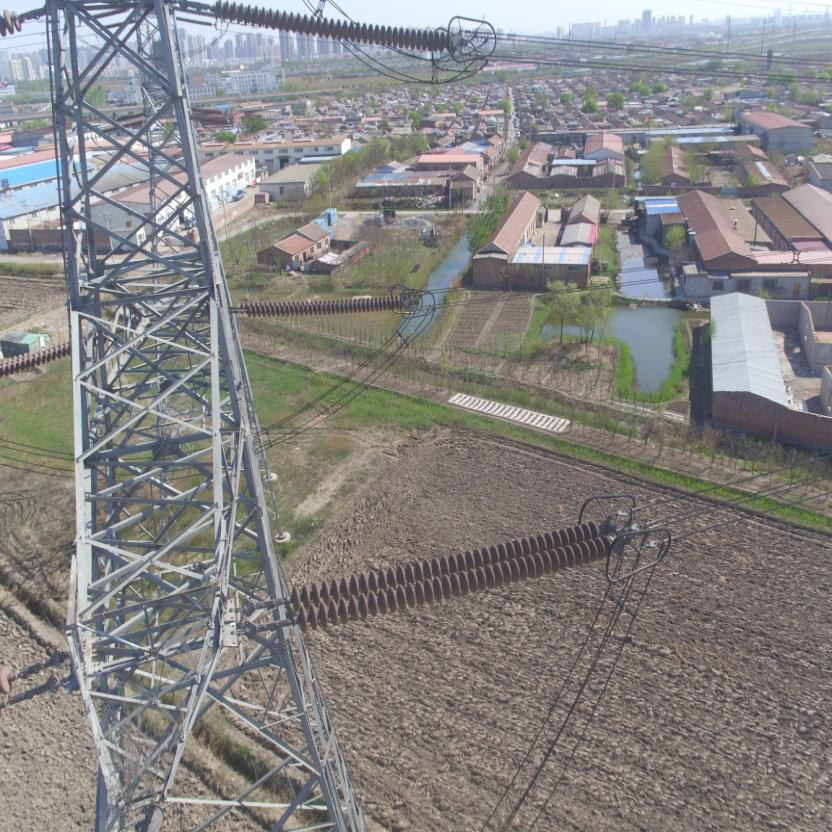insulator: (269, 518, 620, 633), (204, 0, 454, 57), (235, 293, 406, 317)
